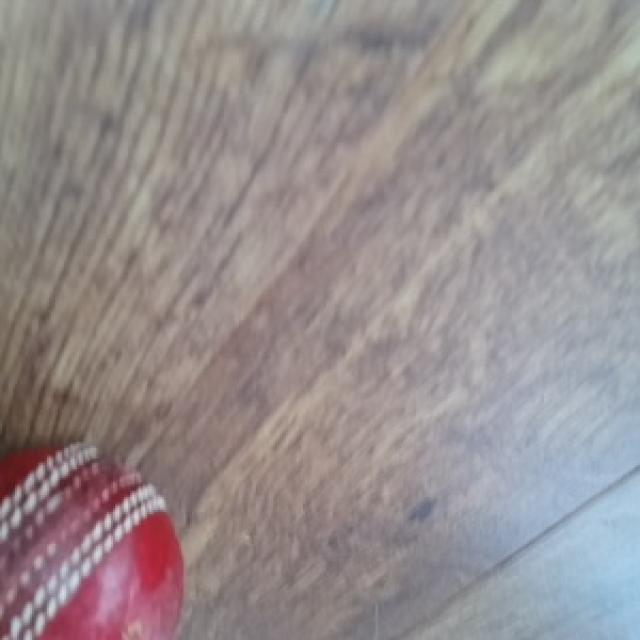ball: (0, 444, 186, 640)
